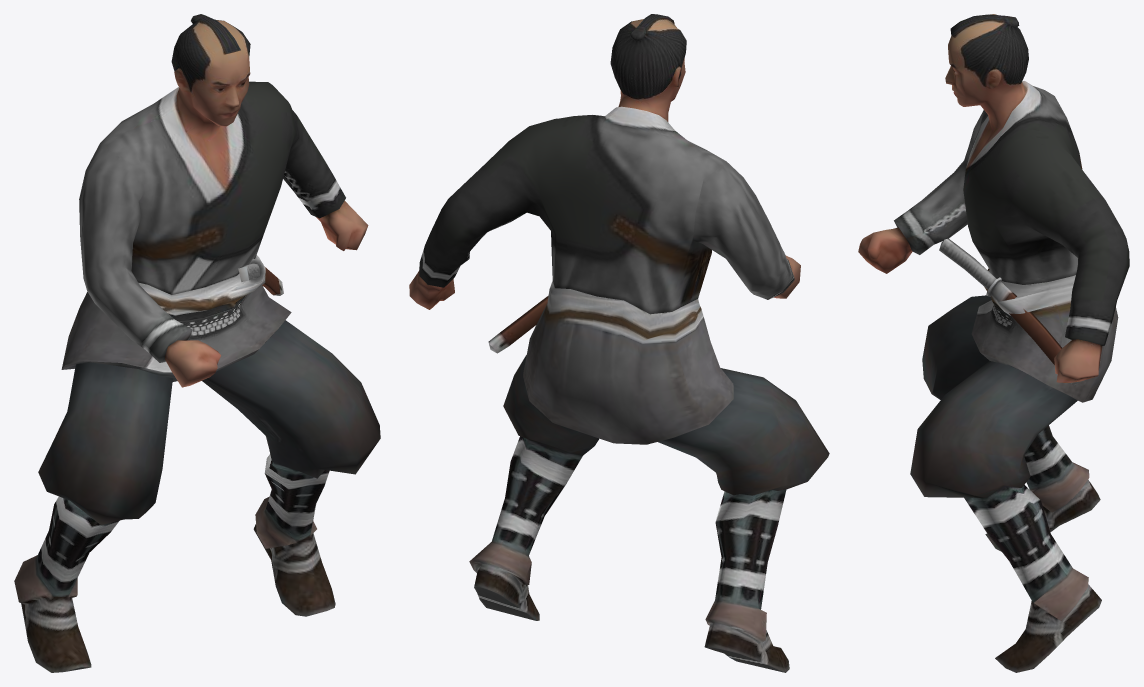
File: rider-slice-base.glb
The picture shows the model from 3 angles, left to right: view 1: azimuth 30°, elevation 25°; view 2: azimuth 150°, elevation 25°; view 3: azimuth 270°, elevation 25°; orthographic projection. The views are drawn at different scales.
Size of the model in its own units: 1.17 by 1.93 by 0.7974.
Materials: 1 (1 with a texture image).
